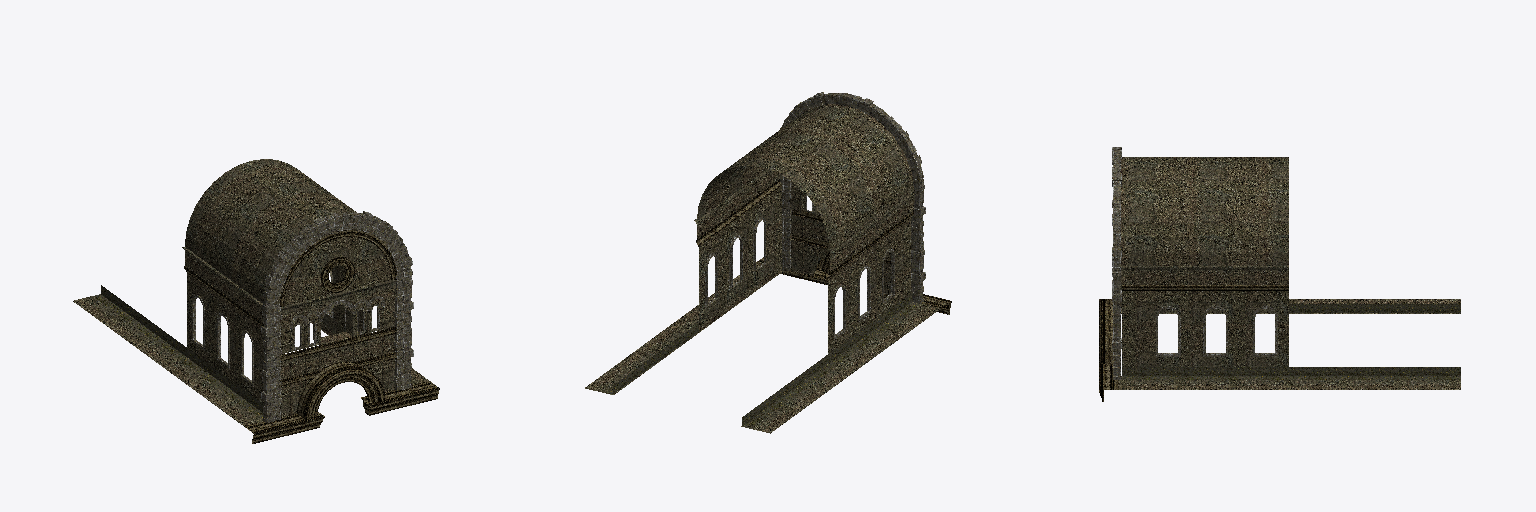
3 renders of one model, left to right at view 1: azimuth 30°, elevation 25°; view 2: azimuth 150°, elevation 25°; view 3: azimuth 270°, elevation 25°, orthographic.
Visible parts, largest first — view 1: mesh7, mesh6, mesh4, mesh8, mesh5; view 2: mesh6, mesh7, mesh4, mesh5, mesh8; view 3: mesh6, mesh7, mesh5, mesh4, mesh8.
Part boxes in pixels (x1,y1,x2,y2): mesh7: (182, 237, 396, 416); mesh6: (73, 159, 428, 425); mesh4: (192, 211, 413, 422); mesh8: (184, 229, 439, 443); mesh5: (93, 285, 312, 419); mesh6: (585, 104, 940, 433); mesh7: (694, 169, 915, 353); mesh4: (705, 92, 925, 339); mesh5: (605, 293, 919, 427); mesh8: (696, 179, 951, 314); mesh6: (1119, 157, 1460, 389); mesh7: (1121, 266, 1288, 366); mesh5: (1122, 304, 1460, 379); mesh4: (1112, 147, 1277, 379); mesh8: (1099, 285, 1288, 401).
Bounding box in the file's own units: 19.54 × 20.22 × 32.99.
9 materials, 7 textured.